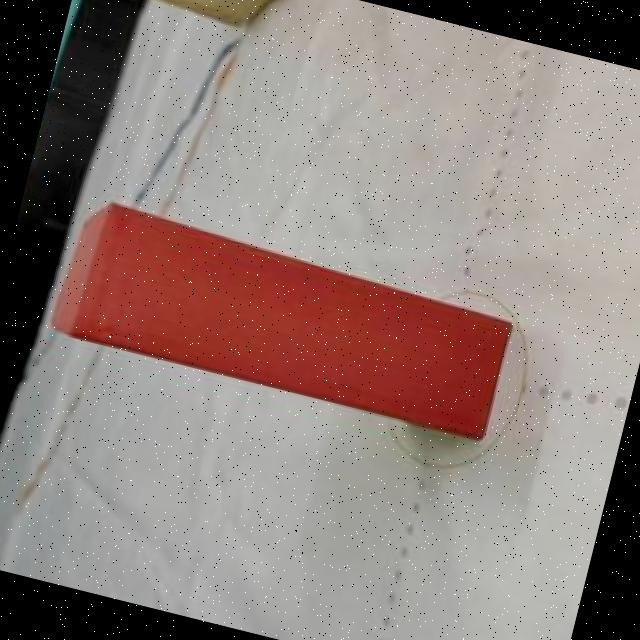redbox: (43, 192, 519, 440)
